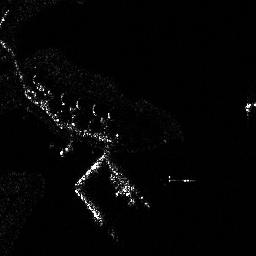ship: (109, 173, 134, 205)
